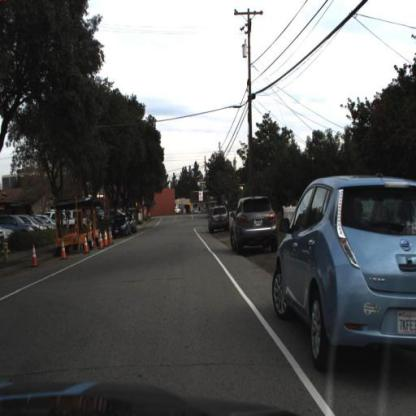car: (272, 164, 416, 382), (228, 194, 279, 257), (1, 215, 41, 247), (40, 211, 81, 238), (208, 202, 233, 236), (206, 206, 235, 235), (108, 213, 131, 242), (113, 217, 129, 238), (129, 216, 137, 235)
truck: (55, 206, 104, 257)
